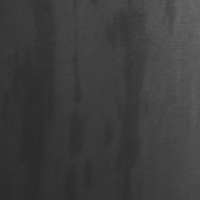inclusion: (9, 3, 57, 199), (105, 6, 149, 199), (67, 1, 95, 199), (162, 0, 181, 37)
